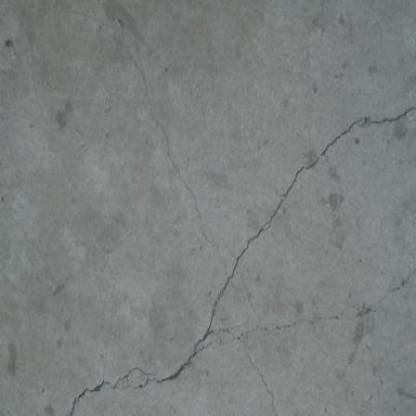Cracks: (42, 5, 277, 325), (189, 97, 416, 239), (0, 320, 294, 412), (163, 190, 375, 317), (206, 262, 416, 350)
